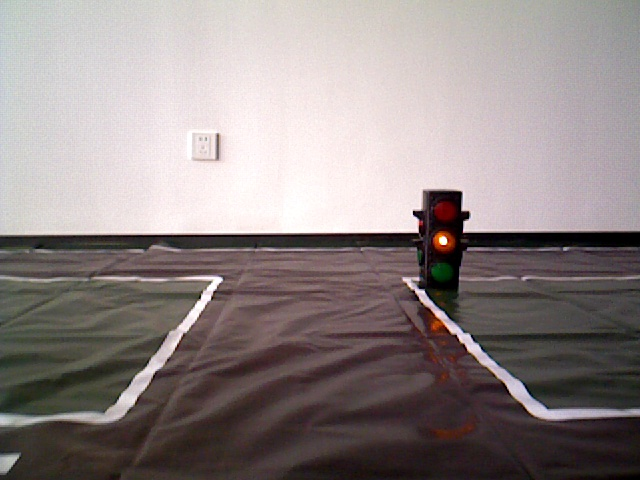yellow: (413, 184, 467, 294)
